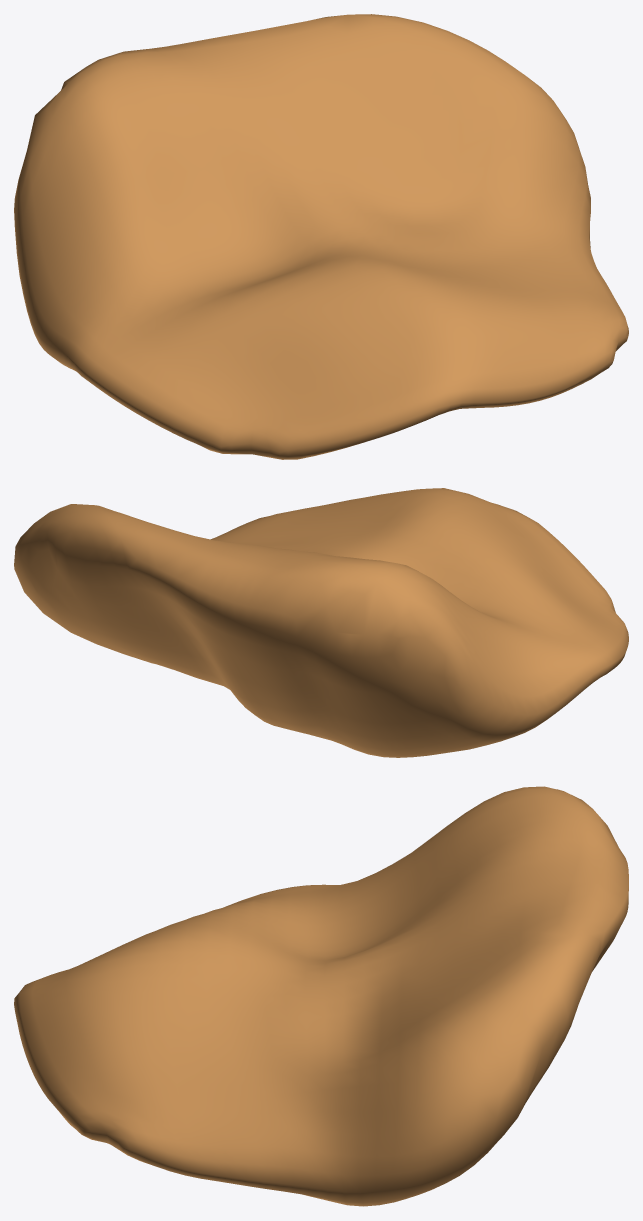
The model's file is SandPatch5.fbx.
The picture shows the model from 3 angles, top to bottom: view 1: azimuth 30°, elevation 25°; view 2: azimuth 150°, elevation 25°; view 3: azimuth 270°, elevation 25°; orthographic projection. The views are drawn at different scales.
Parts seen in each view (by area): view 1: SandPatch5; view 2: SandPatch5; view 3: SandPatch5.
Part boxes in pixels (x1,y1,x2,y2): SandPatch5: (14,14,628,459); SandPatch5: (14,488,628,757); SandPatch5: (14,786,628,1206).
Bounding box in the file's own units: 19.92 × 18.25 × 8.35.
